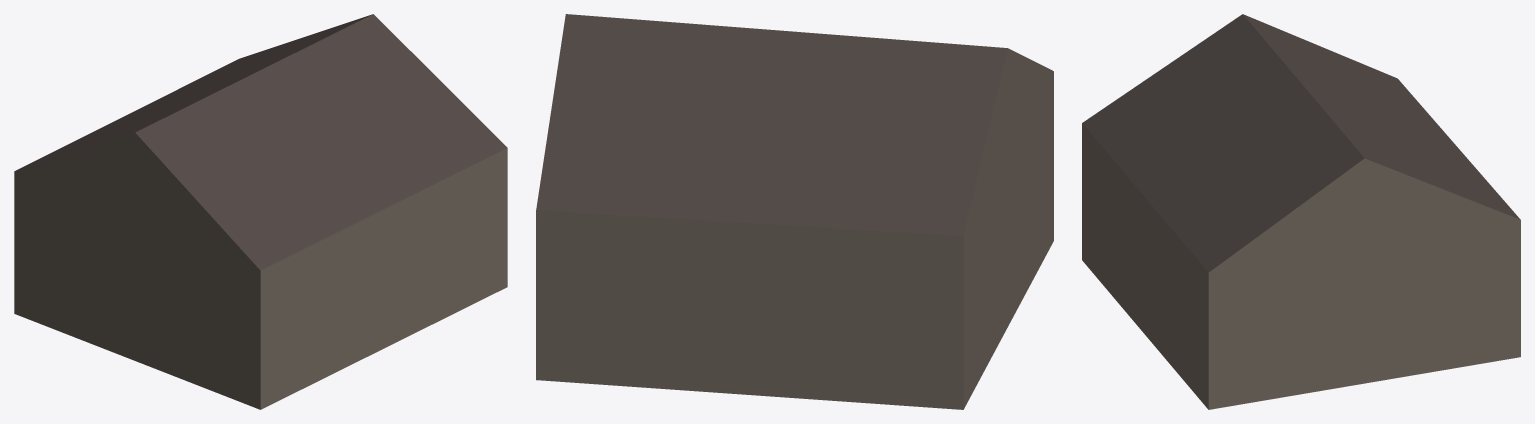
The picture shows the model from 3 angles, left to right: view 1: azimuth 30°, elevation 25°; view 2: azimuth 150°, elevation 25°; view 3: azimuth 270°, elevation 25°; orthographic projection. The views are drawn at different scales.
Parts seen in each view (by area): view 1: HP-w282881401; view 2: HP-w282881401; view 3: HP-w282881401.
Boxes of the visible parts, box(x1,y1,x2,y2) form: HP-w282881401: box(14, 14, 507, 409); HP-w282881401: box(536, 14, 1053, 409); HP-w282881401: box(1082, 14, 1520, 409).
Size of the model in its own units: 17.92 by 9.84 by 17.38.
